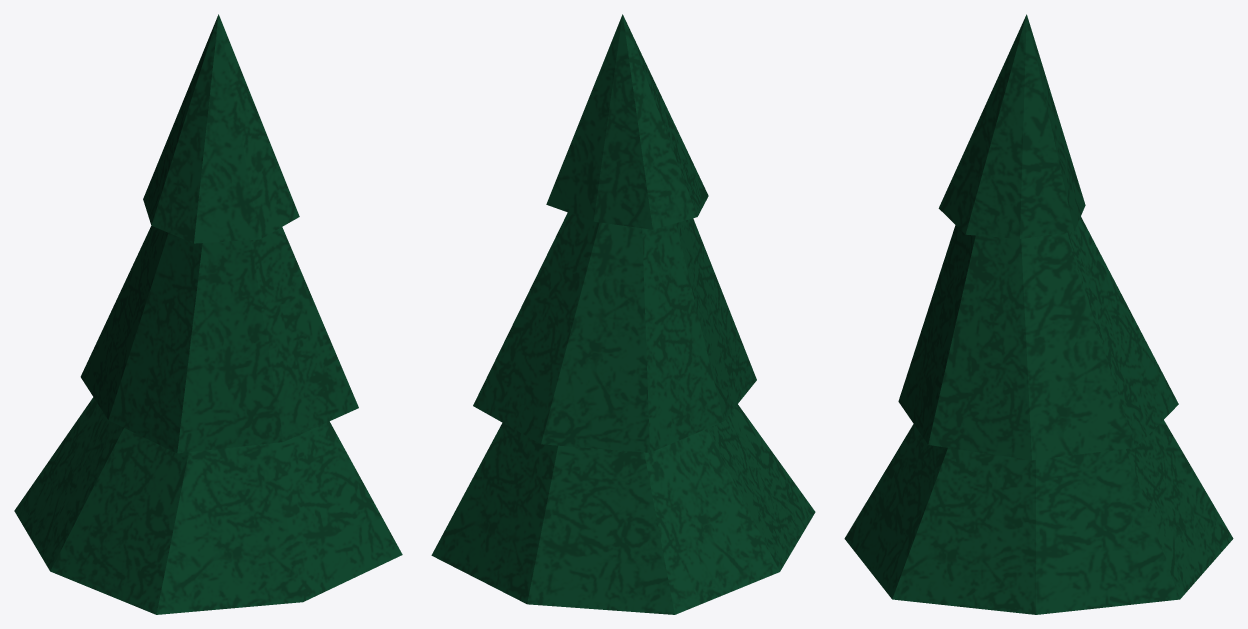
File: Tree.fbx
3 renders of one model, left to right at view 1: azimuth 30°, elevation 25°; view 2: azimuth 150°, elevation 25°; view 3: azimuth 270°, elevation 25°, orthographic. The views are drawn at different scales.
Parts seen in each view (by area): view 1: Tree; view 2: Tree; view 3: Tree.
Part boxes in pixels (x1,y1,x2,y2): Tree: (14,14,402,614); Tree: (431,14,815,614); Tree: (844,14,1233,614).
Size of the model in its own units: 4.23 by 7.19 by 4.51.
